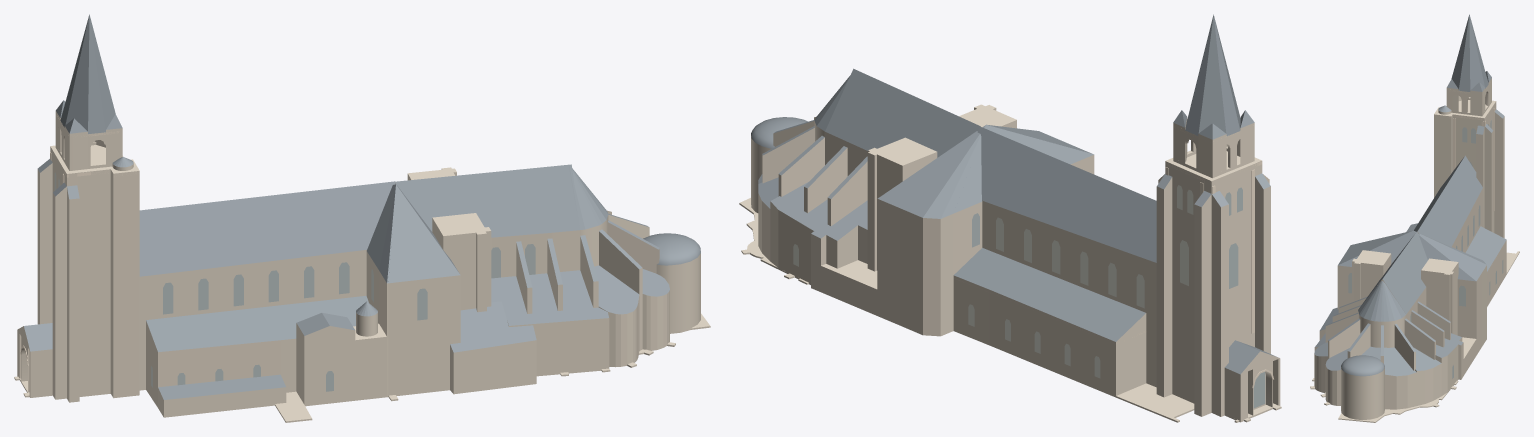
3 views of the same model, side by side, from view 1: azimuth 30°, elevation 25°; view 2: azimuth 150°, elevation 25°; view 3: azimuth 270°, elevation 25° (orthographic). The views are drawn at different scales.
Visible parts, largest first — view 1: stone, roof, window; view 2: stone, roof, window, trim; view 3: stone, roof, window, trim.
Part boxes in pixels (bbox=[...]): stone: bbox=[14, 111, 710, 422]; roof: bbox=[24, 14, 700, 399]; window: bbox=[54, 172, 535, 391]; stone: bbox=[739, 104, 1281, 422]; roof: bbox=[751, 14, 1277, 374]; window: bbox=[793, 185, 1265, 408]; trim: bbox=[954, 126, 1273, 387]; stone: bbox=[1310, 78, 1519, 422]; roof: bbox=[1314, 14, 1506, 376]; window: bbox=[1348, 120, 1503, 378]; trim: bbox=[1434, 82, 1504, 270].
Size of the model in its own units: 102 by 60 by 47.61.
